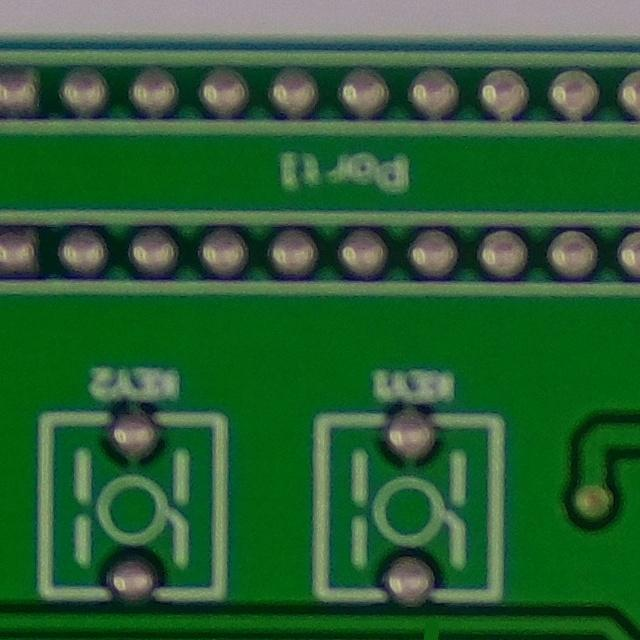short: (395, 610, 459, 640)
